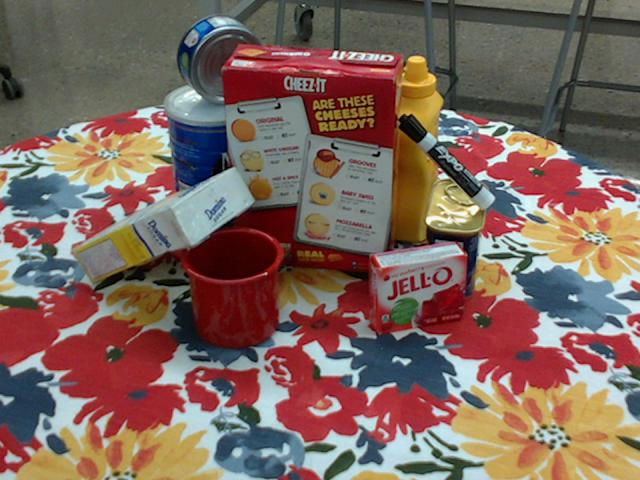cracker_box: (221, 45, 403, 275)
gelatin_box: (369, 242, 468, 335)
large_marker: (398, 114, 495, 210)
master_chef_can: (165, 81, 264, 239)
mug: (180, 225, 285, 348)
mustard_bottle: (386, 58, 444, 245)
potted_meat_can: (423, 179, 490, 302)
sugar_box: (69, 167, 254, 283)
tomato_soup_can: (318, 106, 378, 211)
tuna_fish_can: (177, 15, 264, 104)
